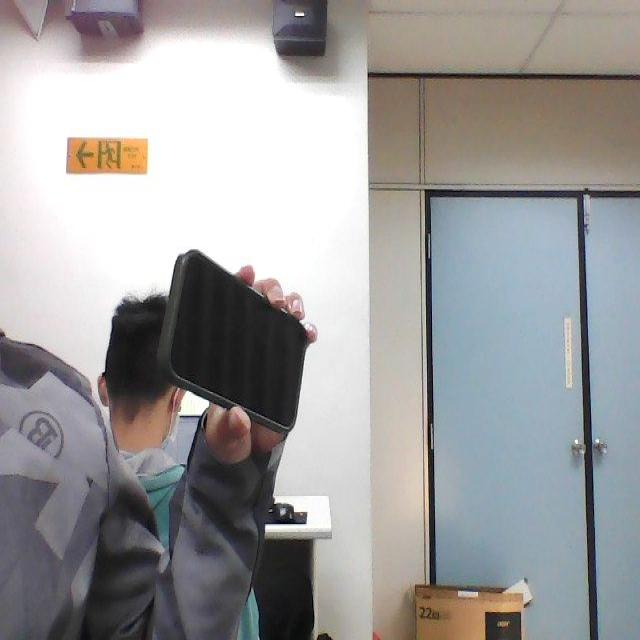Smartphone: (142, 218, 314, 446)
